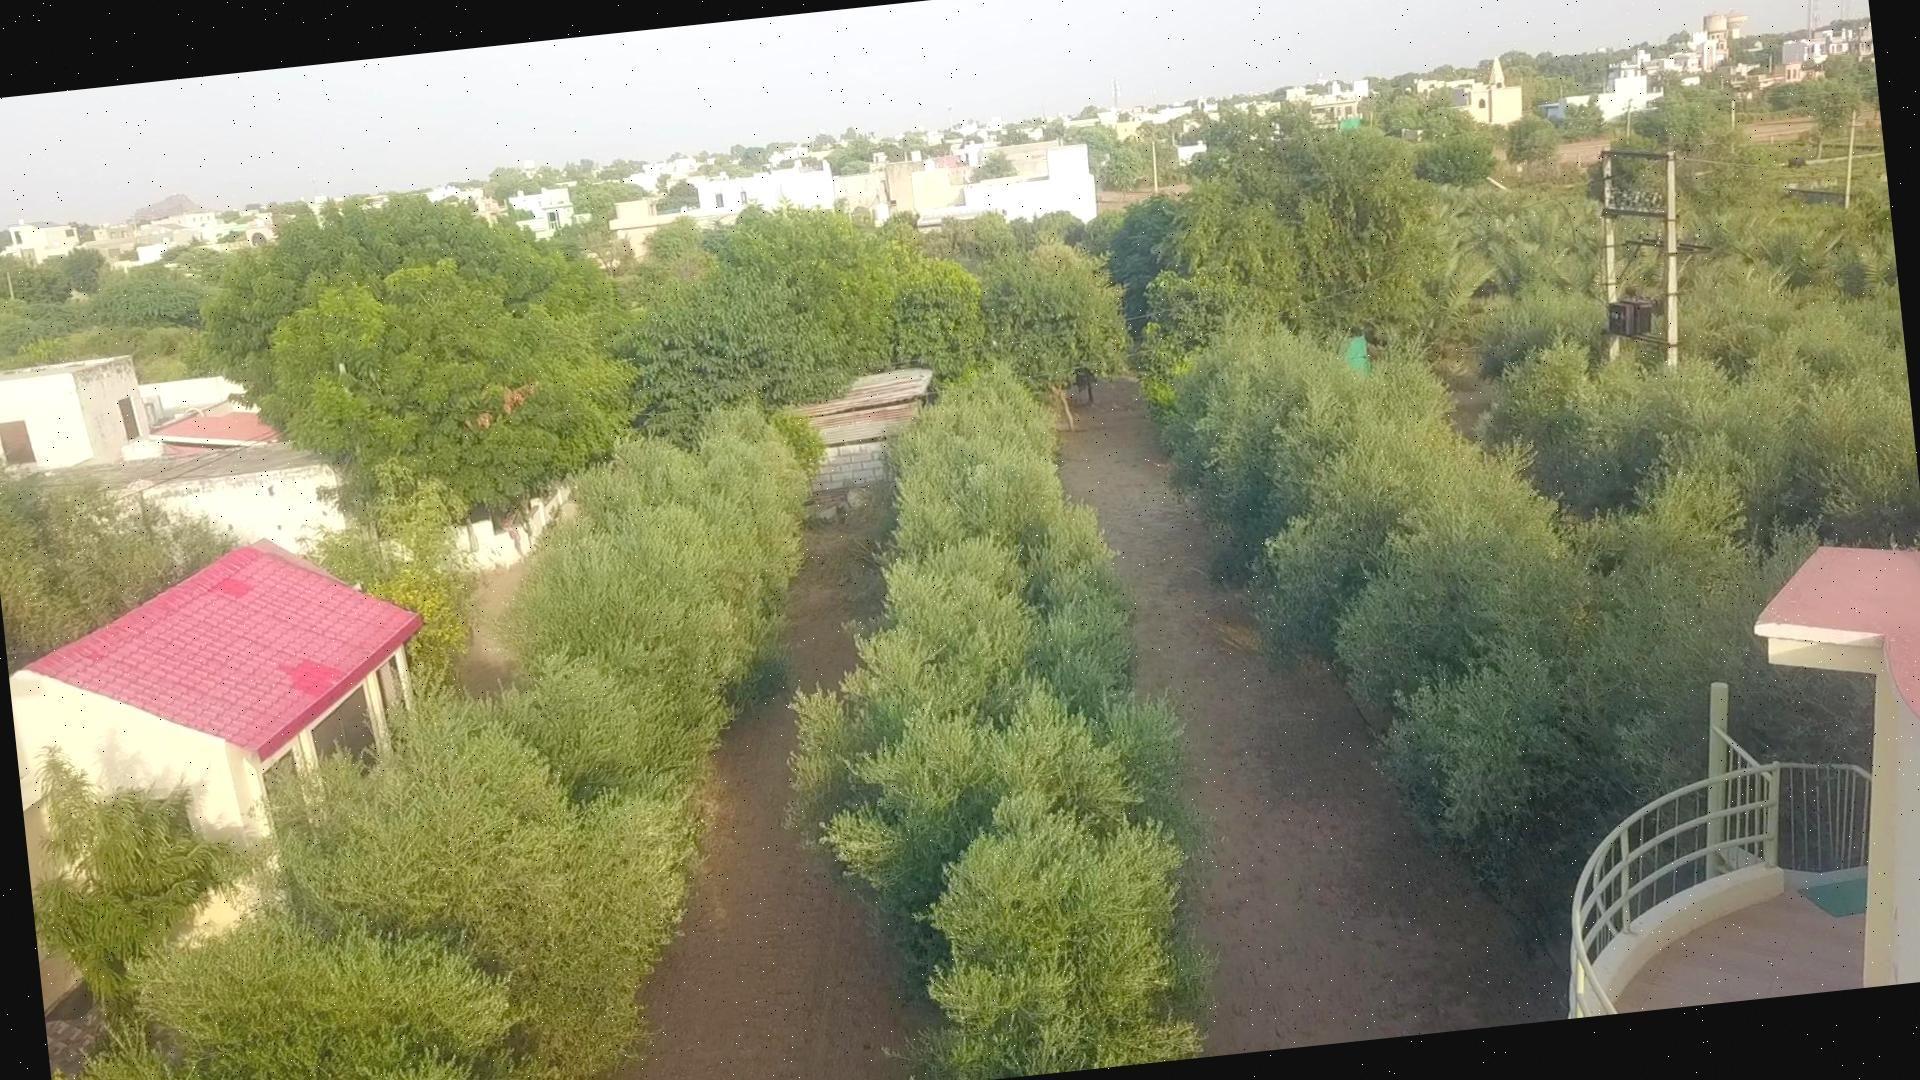canopy: (51, 422, 799, 1080), (787, 365, 1205, 1080), (1153, 320, 1590, 828)
road: (1060, 380, 1560, 1055), (607, 514, 938, 1080)
